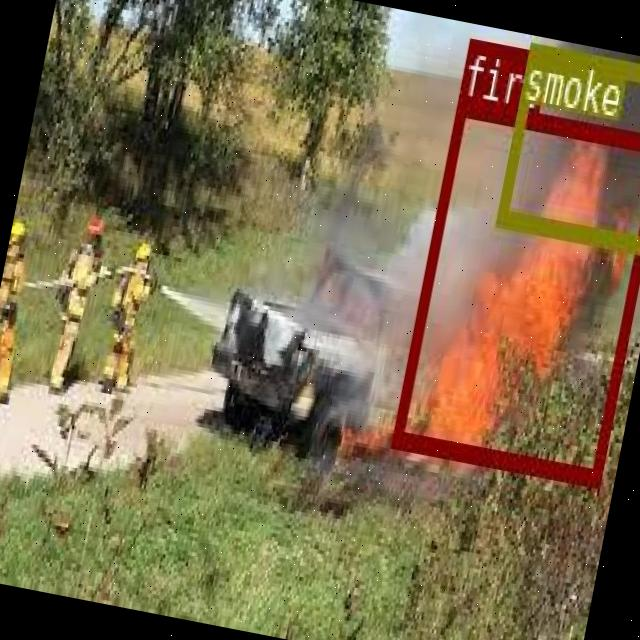fire: (391, 94, 640, 482)
smoke: (495, 42, 640, 253)
